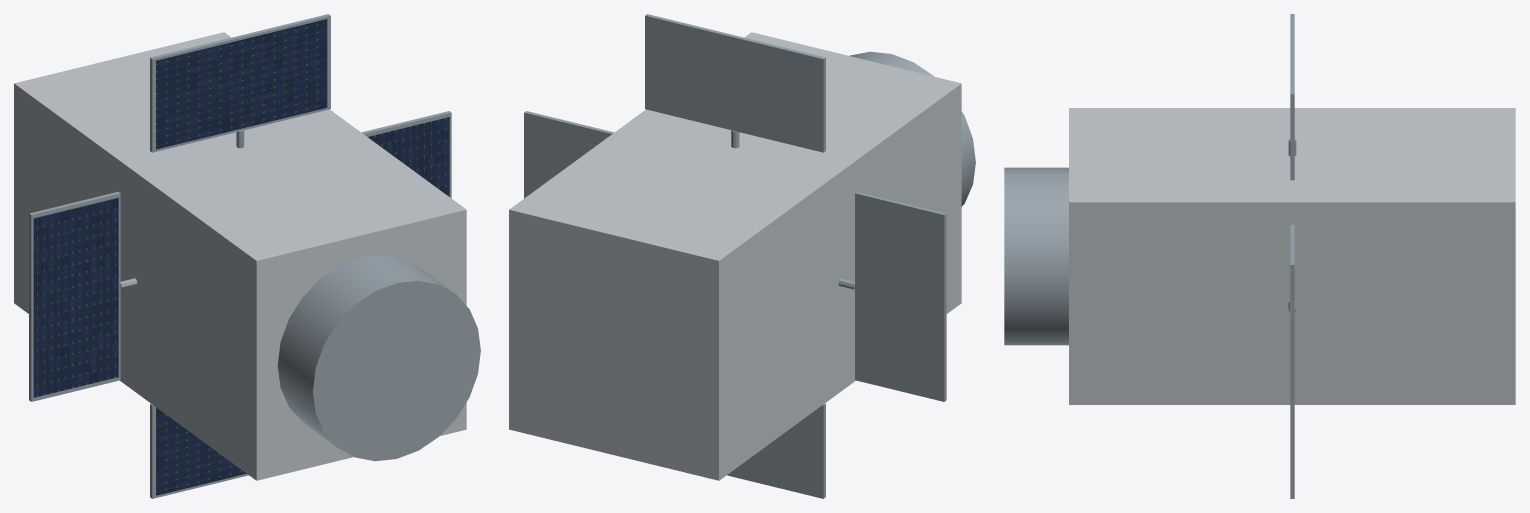
The model's file is ref-neonsat-59587.glb.
3 renders of one model, left to right at view 1: azimuth 30°, elevation 25°; view 2: azimuth 150°, elevation 25°; view 3: azimuth 270°, elevation 25°, orthographic. The views are drawn at different scales.
Parts seen in each view (by area): view 1: Spacecraft body, Photovoltaic laminates (×4), Cylindrical section, Array frame (×4); view 2: Spacecraft body, Array frame (×4), Cylindrical section; view 3: Spacecraft body, Cylindrical section, Array frame (×2).
Boxes of the visible parts, x1,y1,x2,y2 form: Spacecraft body: (14,32,466,480); Photovoltaic laminates (×4): (33,19,449,495); Cylindrical section: (277,255,480,461); Array frame (×4): (29,14,451,498); Spacecraft body: (509,32,961,480); Array frame (×4): (524,14,946,498); Cylindrical section: (849,51,975,206); Spacecraft body: (1069,108,1515,404); Cylindrical section: (1004,167,1068,345); Array frame (×2): (1290,14,1294,436).
Bounding box in the file's own units: 1 × 1 × 1.15.
3 materials, 1 textured.
